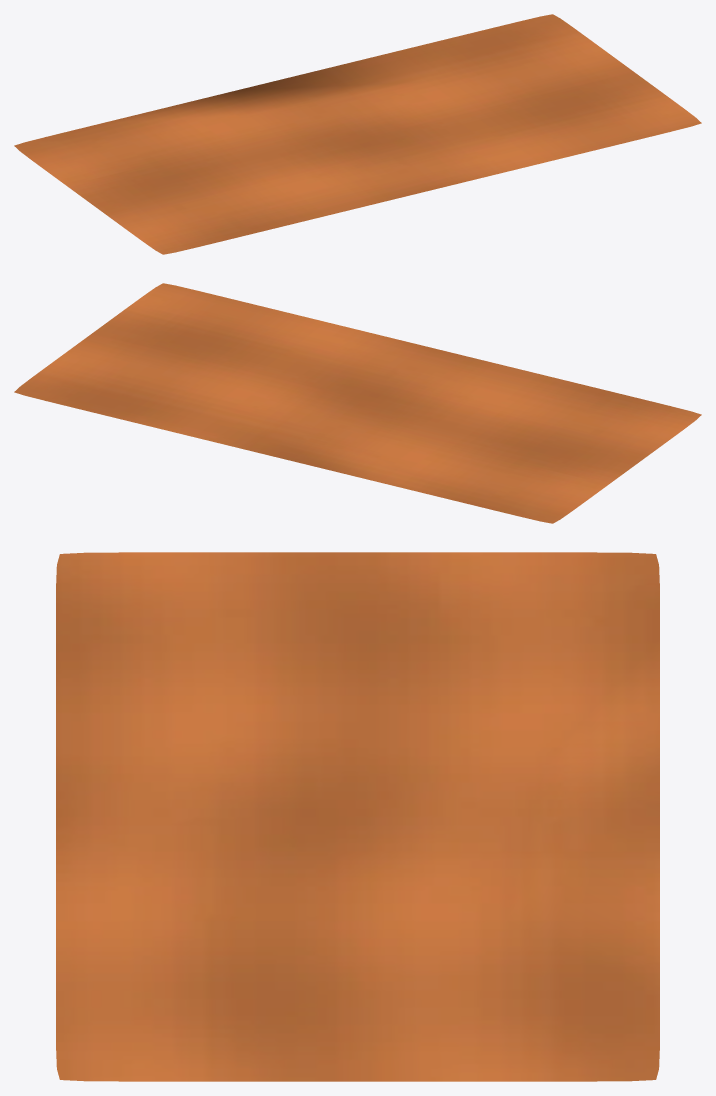
The model's file is lava_crack.glb.
3 views of the same model, one above another, from view 1: azimuth 30°, elevation 25°; view 2: azimuth 150°, elevation 25°; view 3: azimuth 270°, elevation 25° (orthographic). The views are drawn at different scales.
Parts seen in each view (by area): view 1: lod0; view 2: lod0; view 3: lod0.
Part boxes in pixels (x1,y1,x2,y2): lod0: (14,14,701,254); lod0: (14,283,701,523); lod0: (56,552,659,1081).
Bounding box in the file's own units: 1.74 × 0 × 0.8386.
Materials: 1 (1 with a texture image).
